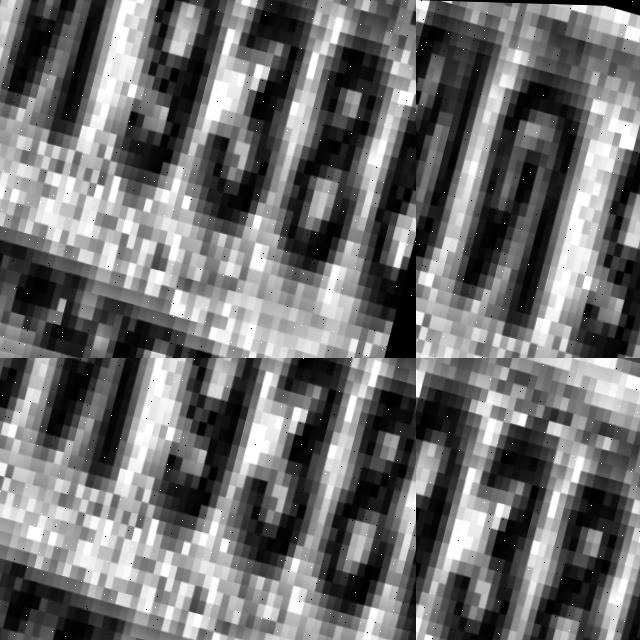license-plate: (0, 0, 416, 358), (0, 358, 416, 640), (416, 0, 640, 358), (416, 358, 640, 640)
